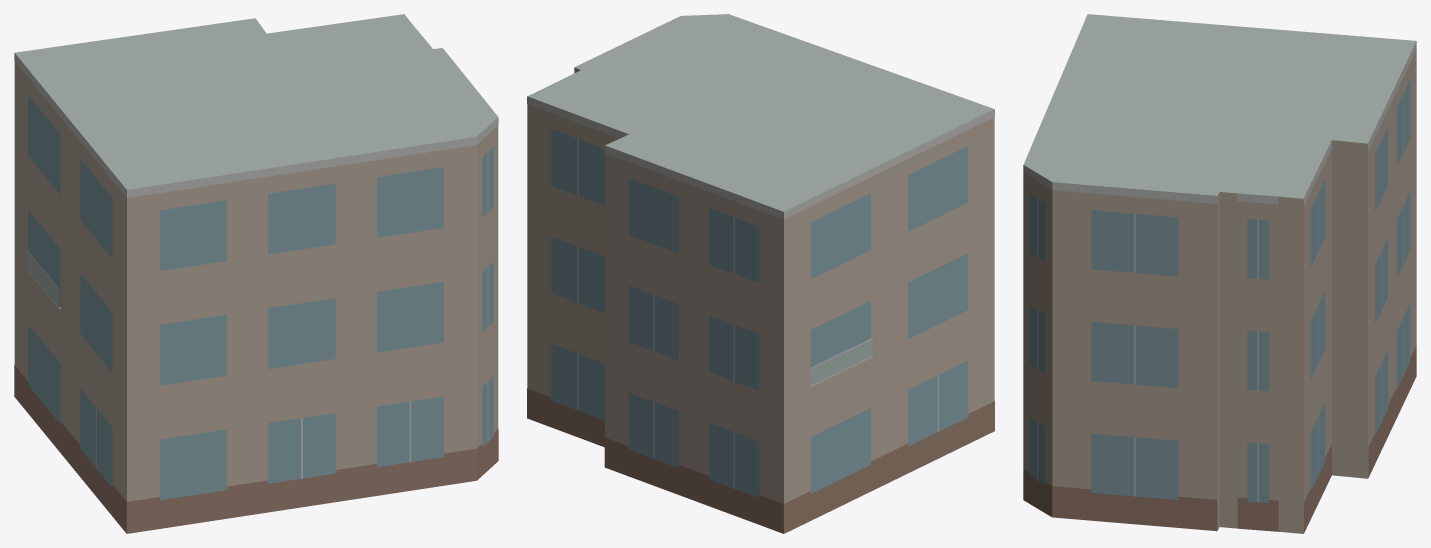
Rendered from survey-upis-32676144.glb.
3 renders of one model, left to right at view 1: azimuth 30°, elevation 25°; view 2: azimuth 150°, elevation 25°; view 3: azimuth 270°, elevation 25°, orthographic. The views are drawn at different scales.
Visible parts, largest first — view 1: survey-upis-32676144.tmp; view 2: survey-upis-32676144.tmp; view 3: survey-upis-32676144.tmp.
Boxes of the visible parts, left/top/right/bottom form: survey-upis-32676144.tmp: left=14, top=14, right=498, bottom=533; survey-upis-32676144.tmp: left=527, top=14, right=994, bottom=533; survey-upis-32676144.tmp: left=1023, top=14, right=1416, bottom=533.
Size of the model in its own units: 12.06 by 10.2 by 10.85.
